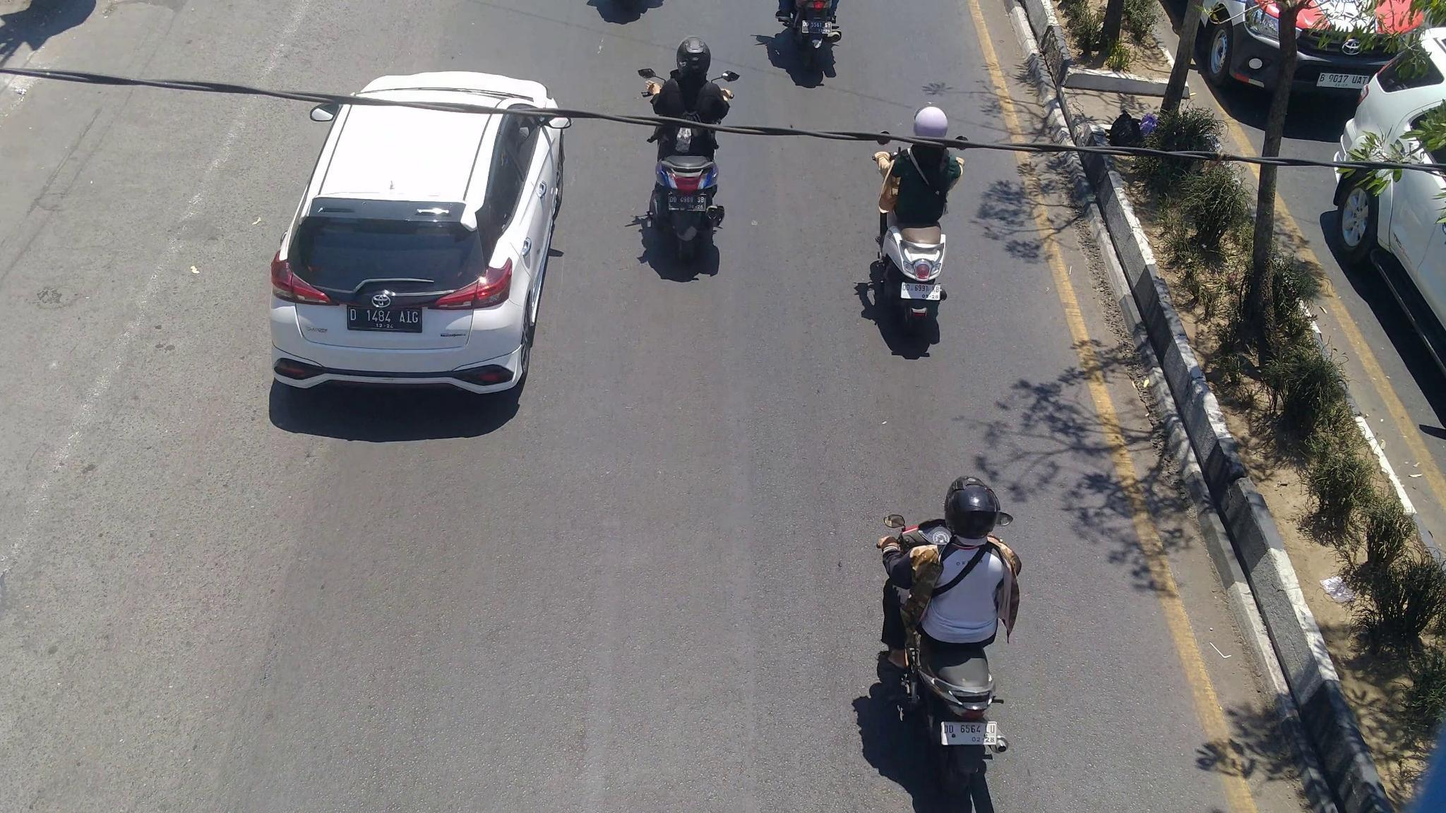Helmet: (938, 466, 1013, 553), (668, 30, 715, 86), (909, 99, 954, 152)
bike: (875, 500, 1017, 810), (634, 60, 745, 273), (872, 129, 969, 335)
number-plate: (938, 719, 999, 747), (897, 278, 944, 304), (798, 16, 835, 39), (662, 195, 712, 212)
rider: (872, 467, 1024, 660), (644, 34, 736, 164), (874, 104, 967, 223)
